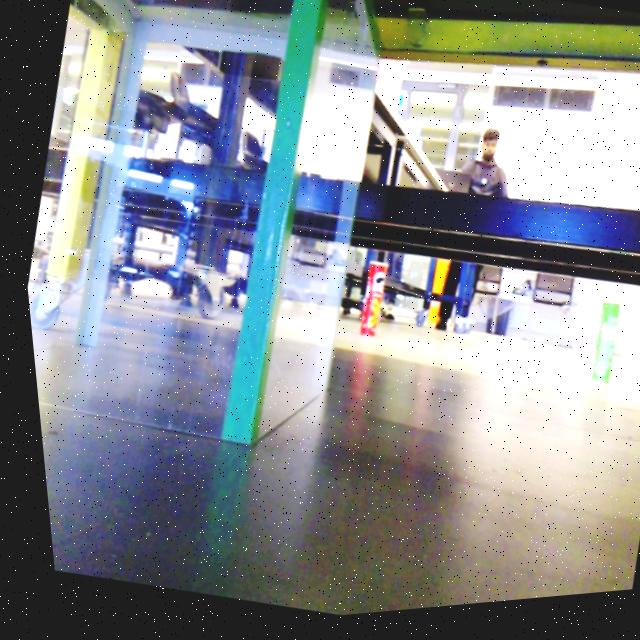greenpringles: (557, 288, 640, 412)
redpringles: (332, 259, 396, 351)
